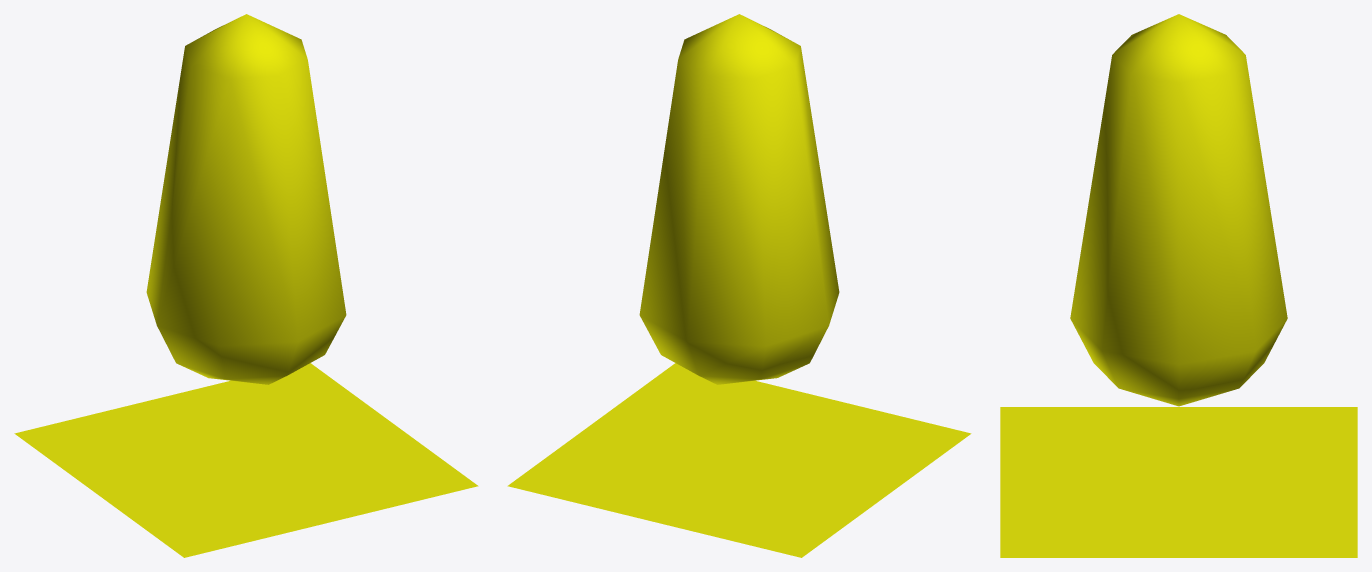
Rendered from mii_body_model.glb.
3 views of the same model, side by side, from view 1: azimuth 30°, elevation 25°; view 2: azimuth 150°, elevation 25°; view 3: azimuth 270°, elevation 25° (orthographic). The views are drawn at different scales.
Visible parts, largest first — view 1: mii_body_model; view 2: mii_body_model; view 3: mii_body_model.
Part boxes in pixels (left/top/right/bottom): mii_body_model: left=14, top=14, right=478, bottom=557; mii_body_model: left=507, top=14, right=971, bottom=557; mii_body_model: left=1000, top=14, right=1357, bottom=557.
Size of the model in its own units: 7.24 by 10.48 by 7.24.
